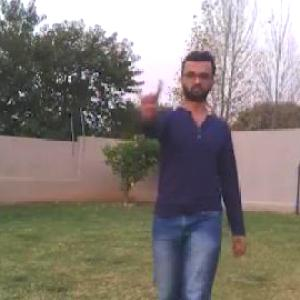takeoff-hand: (132, 64, 166, 113)
